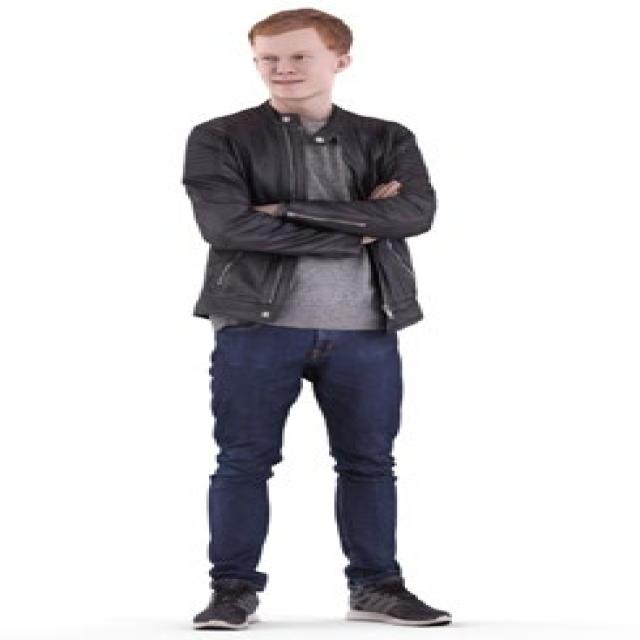standing: (176, 8, 454, 636)
